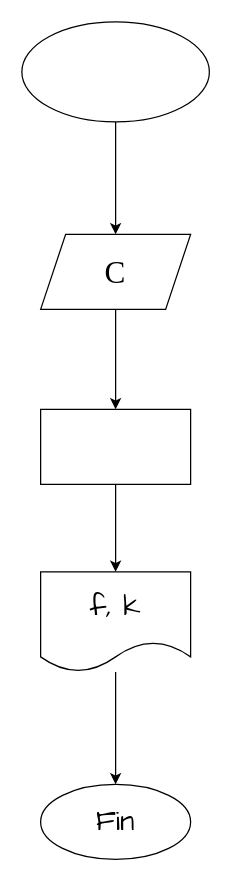
Image size: 231x881. Some labels were removed from this diagram. The box of each missing label's shape, as (x1, y1, x2, y2) in pixels:
Inicio: (21, 21, 209, 122)
k=c+273.15 f=1.8c+32: (39, 408, 191, 484)
